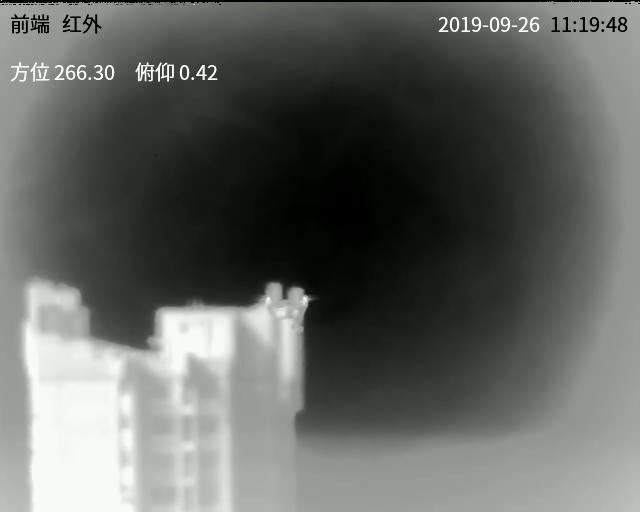uav: (253, 287, 318, 340)
